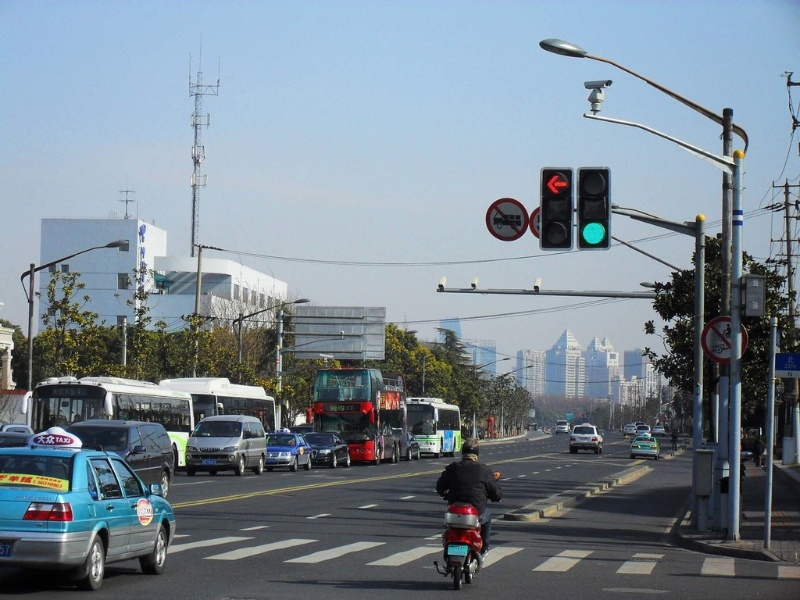green_light: (581, 222, 608, 250)
left_direction: (540, 167, 574, 211)
no_truck: (484, 189, 531, 247)
